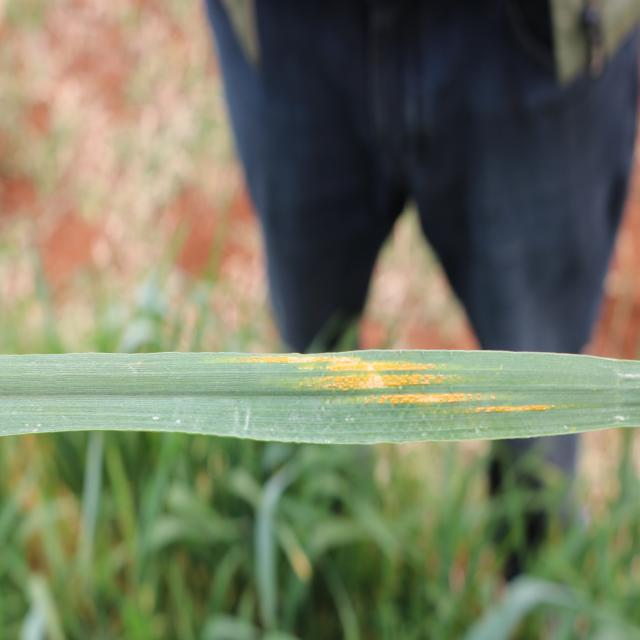Stripe Rust: (329, 371, 443, 390), (362, 392, 481, 406), (235, 352, 320, 366), (480, 403, 553, 418), (343, 362, 423, 372)
